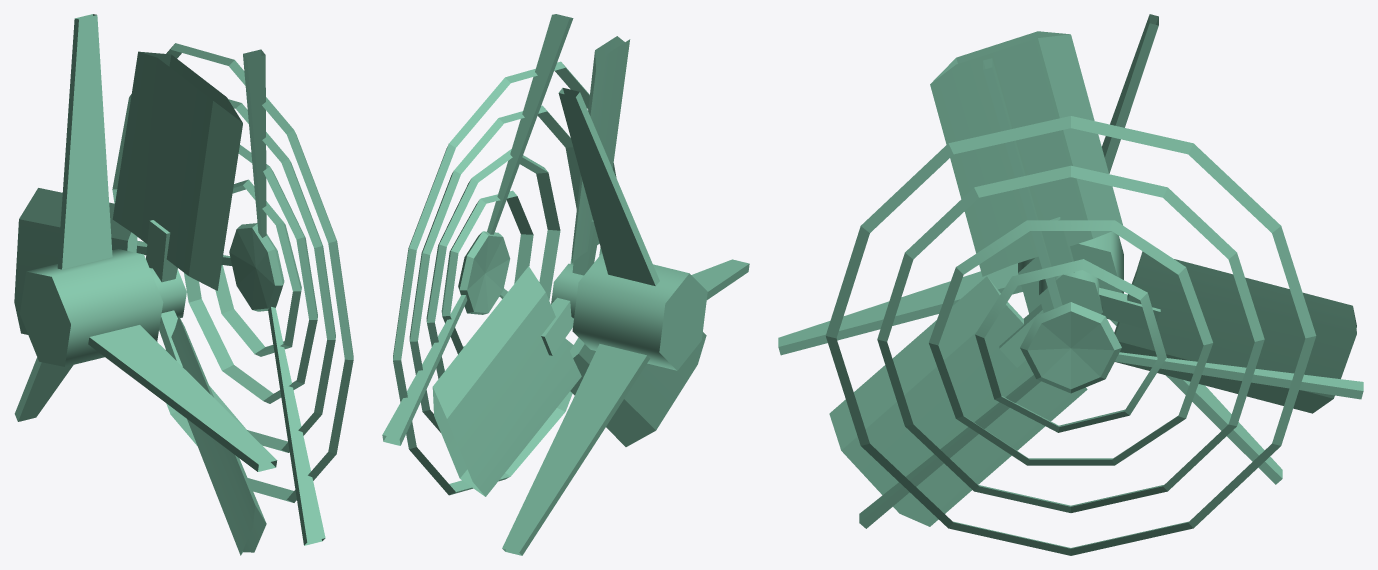
The model's file is SM_VentFan.fbx.
3 views of the same model, side by side, from view 1: azimuth 30°, elevation 25°; view 2: azimuth 150°, elevation 25°; view 3: azimuth 270°, elevation 25° (orthographic). The views are drawn at different scales.
Parts seen in each view (by area): view 1: VentFanStatics, VentFan; view 2: VentFanStatics, VentFan; view 3: VentFan, VentFanStatics.
Part boxes in pixels (x1,y1,x2,y2): VentFanStatics: (14, 14, 353, 545); VentFan: (14, 51, 266, 555); VentFanStatics: (382, 14, 749, 555); VentFan: (432, 36, 706, 496); VentFan: (829, 31, 1356, 526); VentFanStatics: (778, 14, 1363, 555).
Bounding box in the file's own units: 45.27 × 102 × 93.08.
